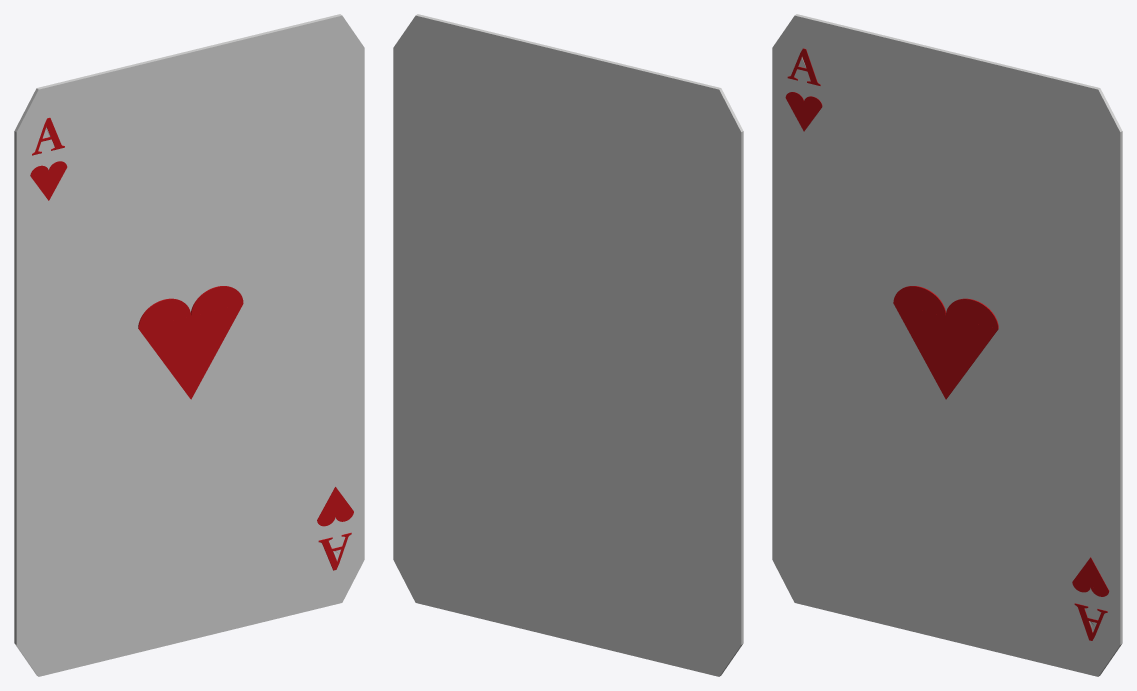
Rendered from playingcard2.glb.
The picture shows the model from 3 angles, left to right: view 1: azimuth 30°, elevation 25°; view 2: azimuth 150°, elevation 25°; view 3: azimuth 330°, elevation 25°; orthographic projection.
Parts seen in each view (by area): view 1: 3MFMeshParent_0, object 13, object 14, object 15, object 3, object 8; view 2: 3MFMeshParent_0; view 3: 3MFMeshParent_0, object 13, object 15, object 14, object 3, object 8.
Part boxes in pixels (bbox=[...]): 3MFMeshParent_0: bbox=[14, 14, 364, 676]; object 13: bbox=[139, 304, 242, 399]; object 14: bbox=[138, 298, 190, 328]; object 15: bbox=[191, 286, 243, 316]; object 3: bbox=[317, 487, 353, 520]; object 8: bbox=[31, 167, 66, 200]; 3MFMeshParent_0: bbox=[393, 14, 743, 676]; 3MFMeshParent_0: bbox=[772, 14, 1122, 676]; object 13: bbox=[894, 304, 998, 399]; object 15: bbox=[945, 298, 998, 328]; object 14: bbox=[893, 286, 945, 316]; object 3: bbox=[1072, 557, 1108, 590]; object 8: bbox=[786, 98, 821, 131].
Size of what is drawn, in the model's own units: 0.0645 by 0.104 by 0.00088.
